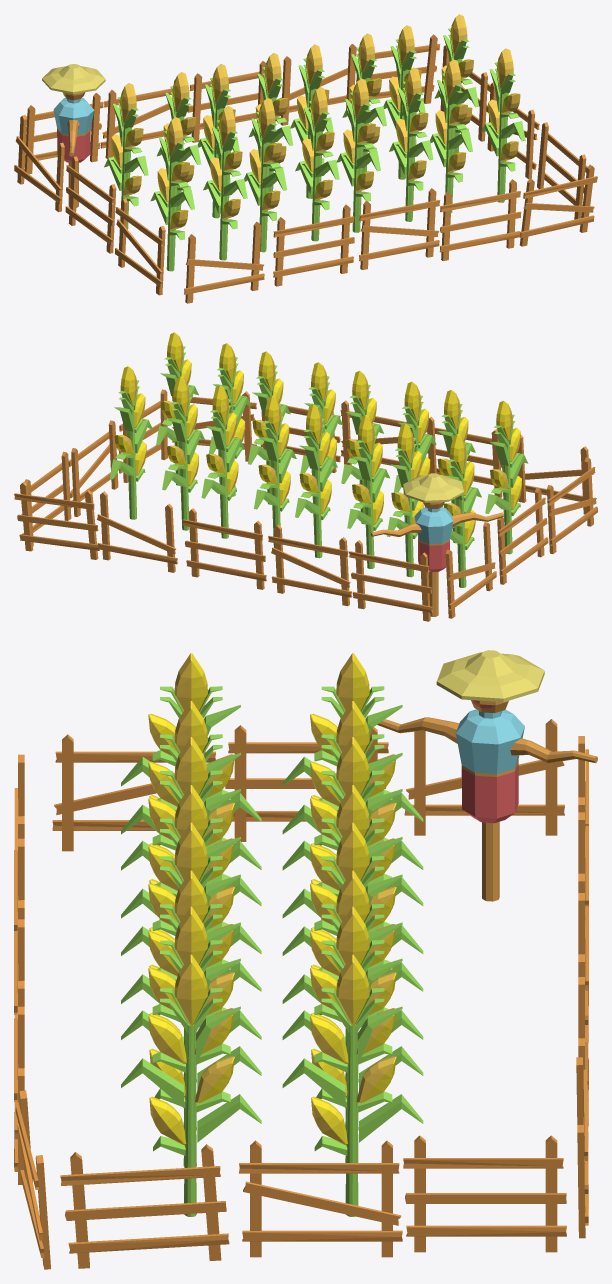
Rendered from wheat_field.gltf.
3 renders of one model, top to bottom at view 1: azimuth 30°, elevation 25°; view 2: azimuth 150°, elevation 25°; view 3: azimuth 270°, elevation 25°, orthographic. The views are drawn at different scales.
Parts seen in each view (by area): view 1: Object_14, Object_9, Object_4, Object_5, Object_20, Object_8, Object_17, Object_12; view 2: Object_14, Object_9, Object_5, Object_4, Object_20, Object_12, Object_8, Object_17; view 3: Object_14, Object_9, Object_5, Object_4, Object_20, Object_12, Object_8, Object_17.
Part boxes in pixels (<box>): Object_14: <box>14,34,597,303</box>; Object_9: <box>104,28,525,271</box>; Object_4: <box>111,14,520,229</box>; Object_5: <box>111,14,519,228</box>; Object_20: <box>42,64,105,93</box>; Object_8: <box>53,98,94,134</box>; Object_17: <box>57,92,90,162</box>; Object_12: <box>57,92,90,207</box>; Object_14: <box>14,389,597,621</box>; Object_9: <box>109,346,528,587</box>; Object_5: <box>114,332,521,543</box>; Object_4: <box>116,332,521,543</box>; Object_20: <box>403,473,463,502</box>; Object_12: <box>370,502,503,616</box>; Object_8: <box>414,507,453,543</box>; Object_17: <box>418,537,449,571</box>; Object_14: <box>14,719,588,1269</box>; Object_9: <box>121,686,423,1216</box>; Object_5: <box>149,653,396,1144</box>; Object_4: <box>148,653,395,1144</box>; Object_20: <box>436,650,544,702</box>; Object_12: <box>377,700,597,901</box>; Object_8: <box>455,709,524,773</box>; Object_17: <box>461,700,518,823</box>.
Bounding box in the file's own units: 40.03 × 15.38 × 26.87.
